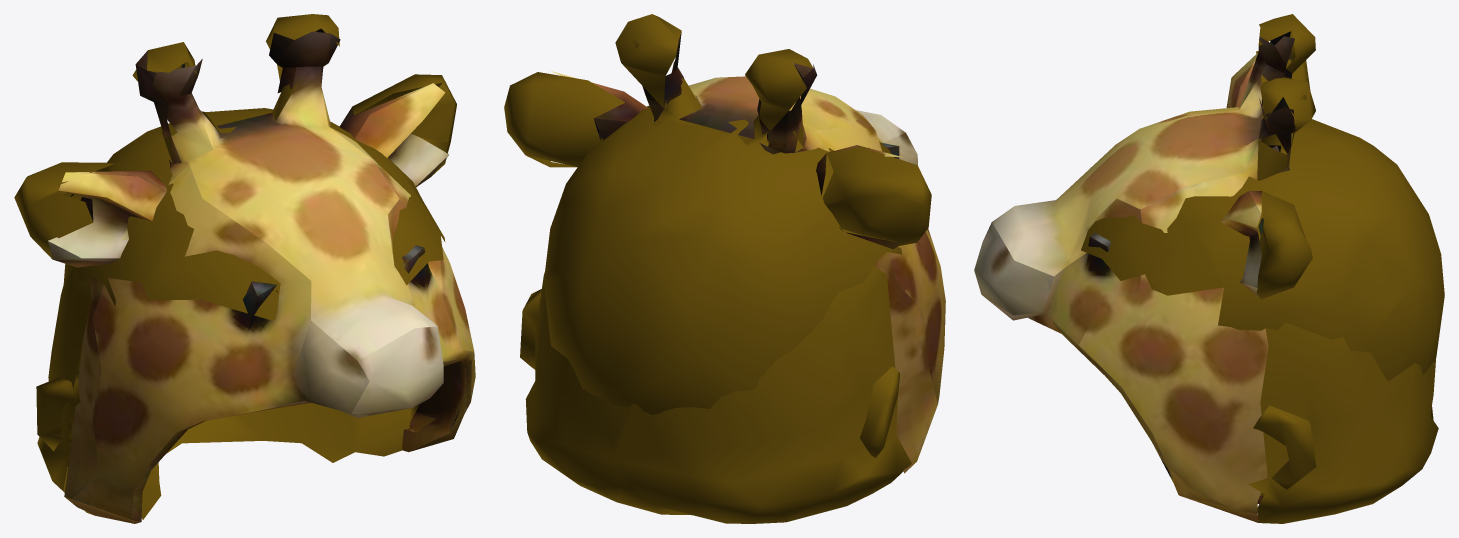
File: giraffe.glb
The picture shows the model from 3 angles, left to right: view 1: azimuth 30°, elevation 25°; view 2: azimuth 150°, elevation 25°; view 3: azimuth 270°, elevation 25°; orthographic projection. The views are drawn at different scales.
Visible parts, largest first — view 1: geometry_0, HoodAnatomicalLining; view 2: geometry_0, HoodAnatomicalLining; view 3: geometry_0, HoodAnatomicalLining.
Boxes of the visible parts, box(x1,y1,x2,y2) form: geometry_0: box(14, 14, 475, 523); HoodAnatomicalLining: box(36, 108, 445, 519); geometry_0: box(504, 14, 945, 523); HoodAnatomicalLining: box(520, 98, 902, 457); geometry_0: box(974, 14, 1438, 523); HoodAnatomicalLining: box(1081, 119, 1444, 495).
Bounding box in the file's own units: 0.5317 × 0.5252 × 0.5385.
Materials: 2 (1 with a texture image).
